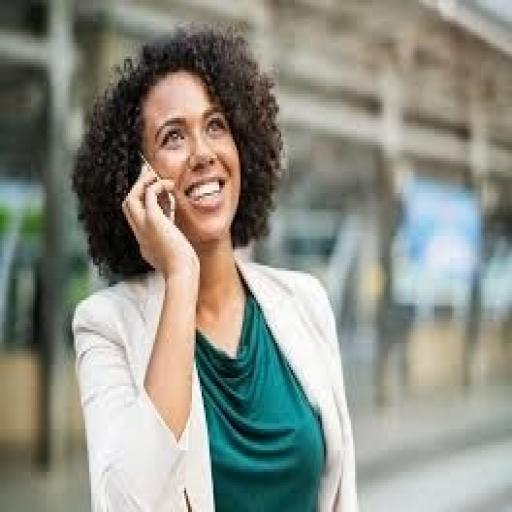texting: (68, 22, 364, 510)
